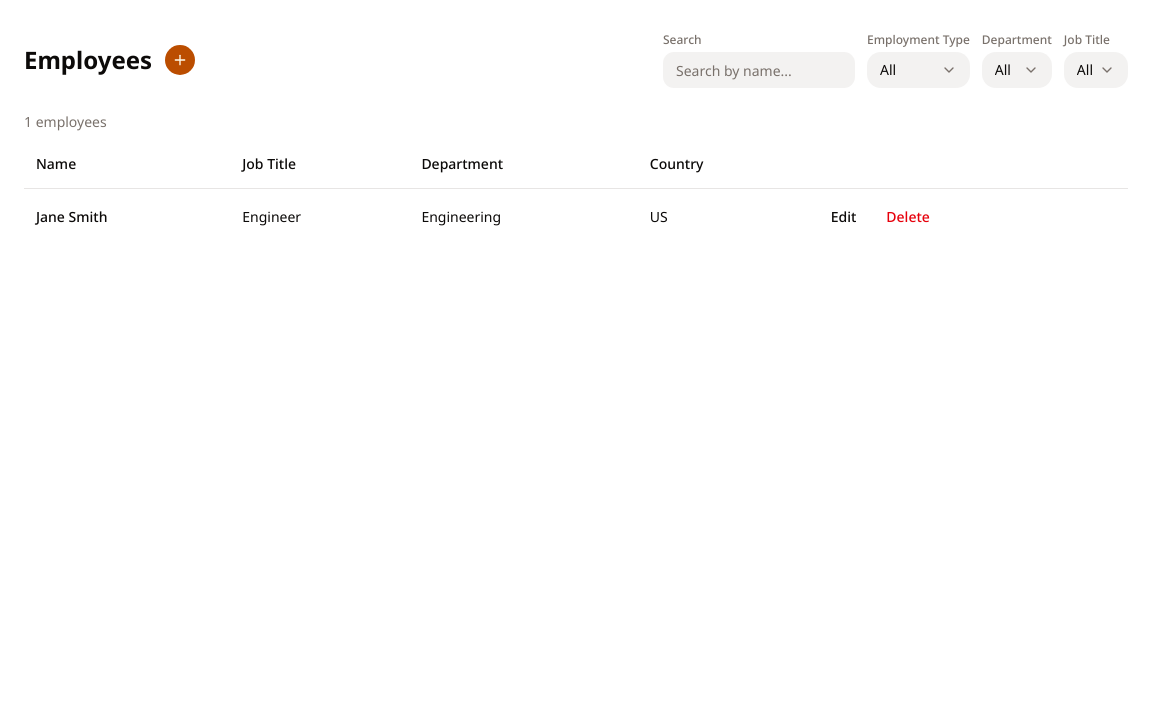
EmployeesPage › edit employee modal › opens an edit form modal when the edit button is clicked on a row
expect the button "Jane Smith" is shown: met, box [36,206,107,226]
Click the button with aria-label "edit jane smith".
click(844, 216)  # box [818,200,869,232]
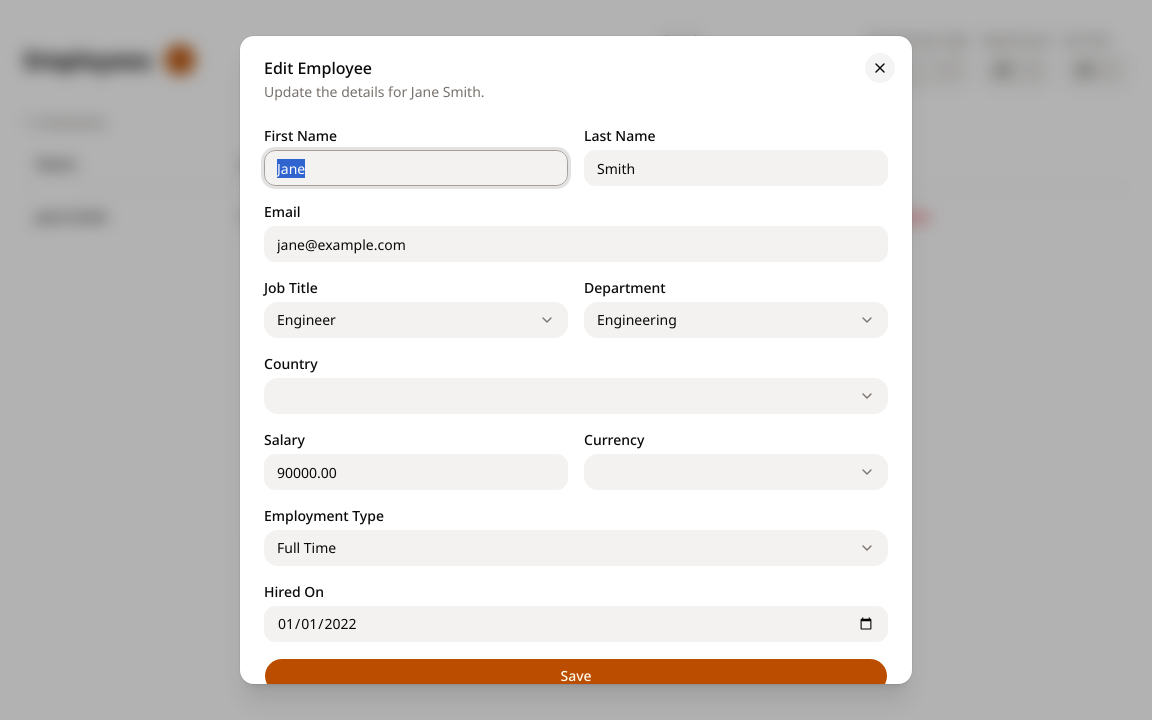
expect the dialog is shown: met, box [240,36,912,684]
expect the field labelled "First Name" holds "Jane": met, box [264,150,568,186]
